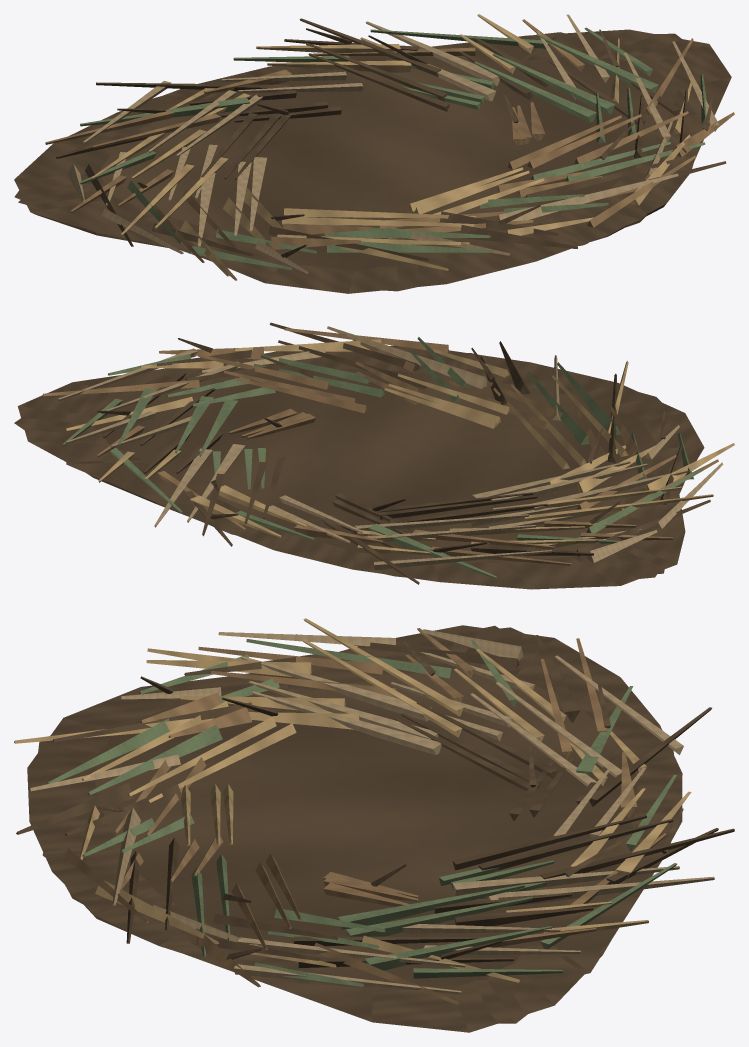
Rendered from DenLitter.fbx.
3 renders of one model, top to bottom at view 1: azimuth 30°, elevation 25°; view 2: azimuth 150°, elevation 25°; view 3: azimuth 270°, elevation 25°, orthographic. The views are drawn at different scales.
Parts seen in each view (by area): view 1: DenLitterDetail0, DenLitterDetail1, DenLitterDetail2; view 2: DenLitterDetail0, DenLitterDetail1, DenLitterDetail2; view 3: DenLitterDetail0, DenLitterDetail1, DenLitterDetail2.
Boxes of the visible parts, x1,y1,x2,y2 form: DenLitterDetail0: (14, 19, 734, 293); DenLitterDetail1: (14, 14, 726, 291); DenLitterDetail2: (18, 18, 731, 280); DenLitterDetail0: (17, 326, 734, 589); DenLitterDetail1: (14, 322, 718, 578); DenLitterDetail2: (66, 339, 710, 573); DenLitterDetail0: (14, 625, 718, 1032); DenLitterDetail1: (16, 618, 714, 1023); DenLitterDetail2: (42, 625, 734, 1021).
Size of the model in its own units: 461 by 21.03 by 345.
1 material, 1 textured.
